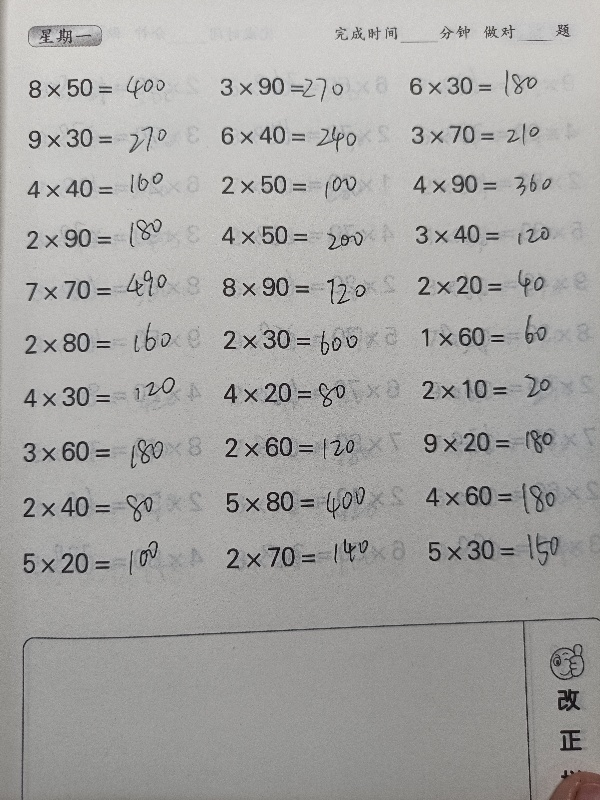equation: (217, 481, 397, 528), (417, 472, 597, 518), (214, 373, 394, 413), (215, 320, 395, 360), (400, 62, 580, 102), (218, 535, 398, 574), (211, 69, 391, 108), (419, 531, 599, 568), (216, 428, 396, 465), (15, 544, 195, 580), (15, 489, 195, 525), (14, 433, 194, 469), (15, 378, 195, 414), (414, 424, 594, 459), (413, 371, 593, 406), (16, 325, 196, 360), (414, 319, 594, 354), (17, 272, 197, 307), (214, 270, 394, 305), (409, 267, 589, 302), (19, 120, 199, 155), (404, 117, 584, 152), (20, 70, 200, 105), (18, 221, 198, 255), (213, 218, 393, 252), (406, 217, 586, 251), (19, 172, 199, 206), (214, 168, 394, 202), (405, 166, 585, 200), (213, 119, 393, 153)
